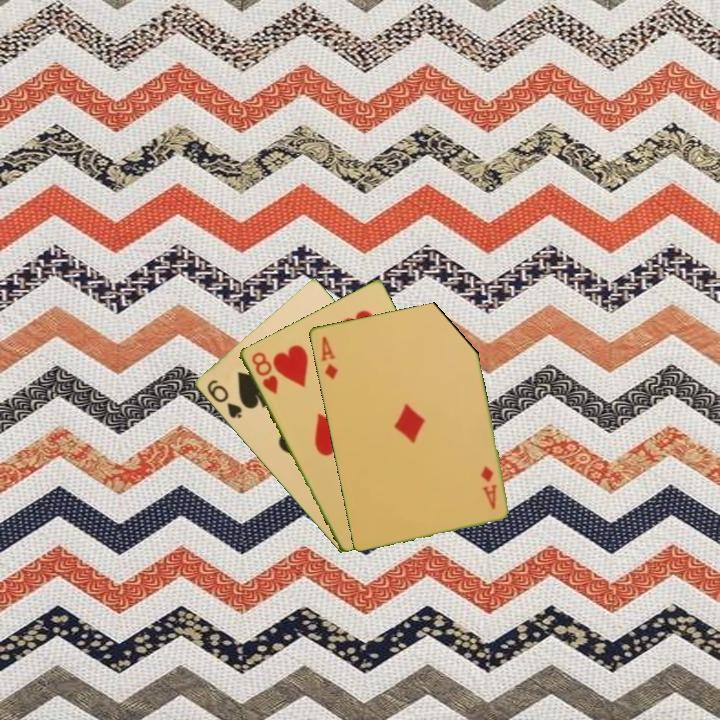6s: (203, 376, 245, 422)
8h: (247, 348, 281, 397)
Ad: (317, 332, 341, 382), (477, 462, 499, 512)
